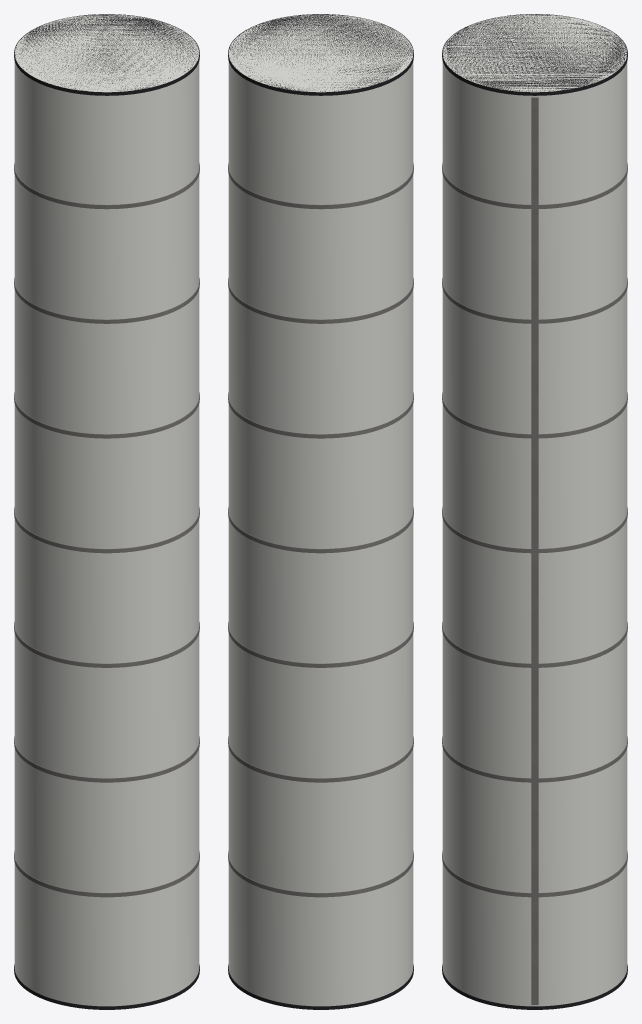
Rendered from tank13_tank_length_series_m_double.glb.
3 renders of one model, left to right at view 1: azimuth 30°, elevation 25°; view 2: azimuth 150°, elevation 25°; view 3: azimuth 270°, elevation 25°, orthographic.
Visible parts, largest first — view 1: tank, stack_flanges, ring_frames; view 2: tank, stack_flanges, ring_frames; view 3: tank, stack_flanges, feedline, ring_frames.
Boxes of the visible parts, x1,y1,x2,y2 form: tank: (14, 14, 199, 1006); stack_flanges: (14, 14, 199, 1009); ring_frames: (14, 163, 199, 897); tank: (228, 14, 413, 1006); stack_flanges: (228, 14, 413, 1009); ring_frames: (228, 163, 413, 897); tank: (442, 14, 627, 1006); stack_flanges: (442, 14, 627, 1009); feedline: (531, 97, 538, 1004); ring_frames: (442, 163, 627, 897).
Bounding box in the file's own units: 2.51 × 13.7 × 2.52.
Materials: 3 (1 with a texture image).
